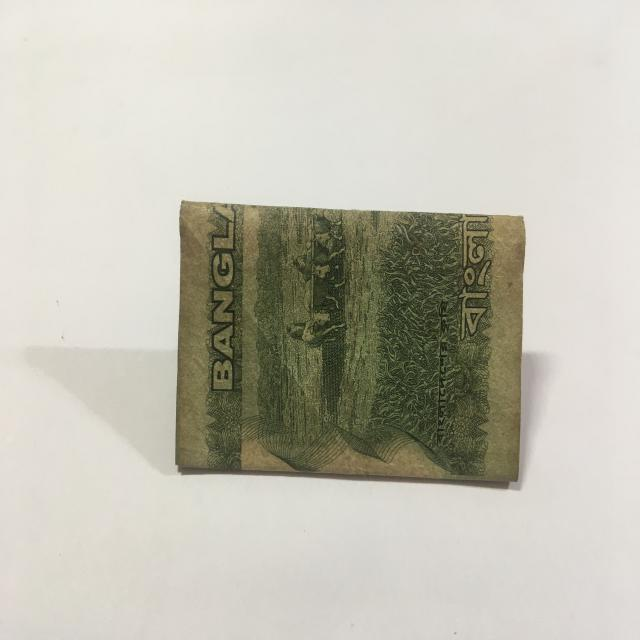Taka: (176, 190, 530, 486)
